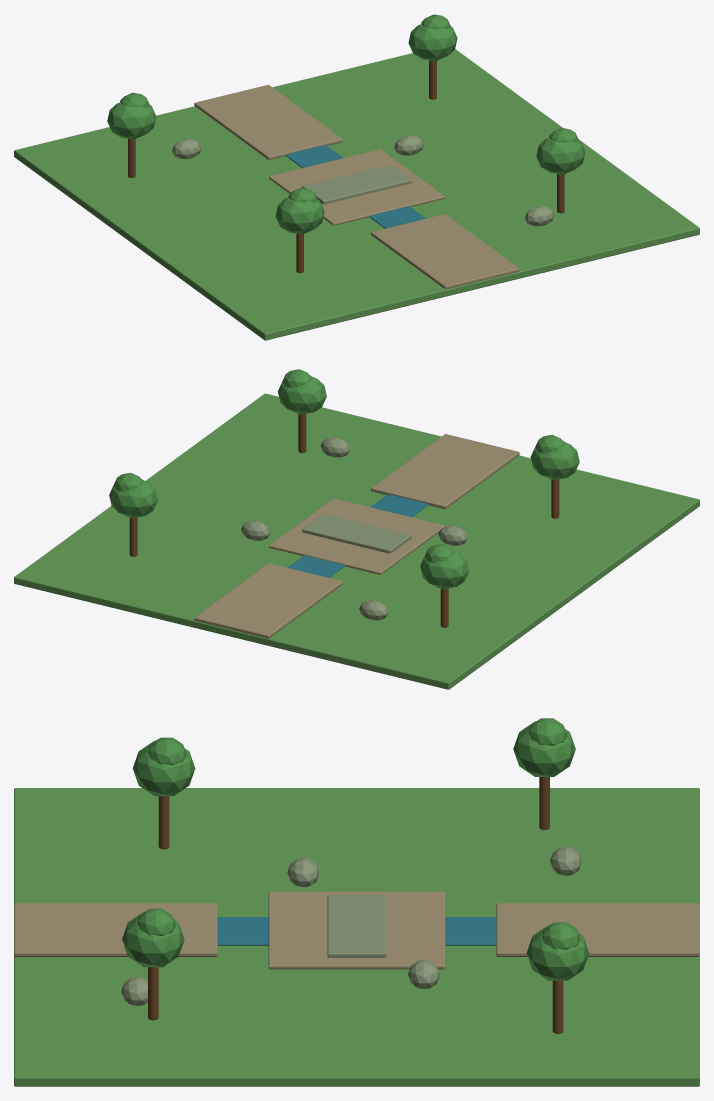
File: chunk_stream_crossing.fbx
3 views of the same model, one above another, from view 1: azimuth 30°, elevation 25°; view 2: azimuth 150°, elevation 25°; view 3: azimuth 270°, elevation 25° (orthographic). The views are drawn at different scales.
Visible parts, largest first — view 1: chunk_stream_crossing; view 2: chunk_stream_crossing; view 3: chunk_stream_crossing.
Part boxes in pixels (<box>): chunk_stream_crossing: <box>14,14,699,340</box>; chunk_stream_crossing: <box>14,369,699,689</box>; chunk_stream_crossing: <box>14,718,699,1086</box>.
Size of the model in its own units: 256 by 49.55 by 256.
